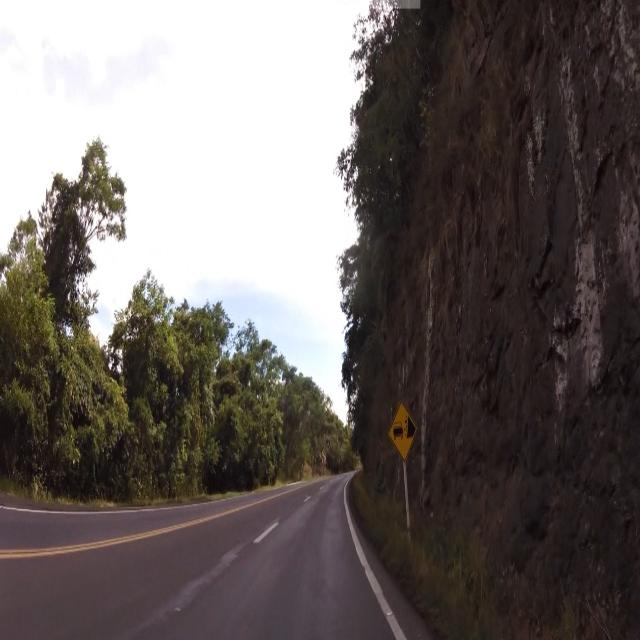A-27: (388, 406, 423, 458)
